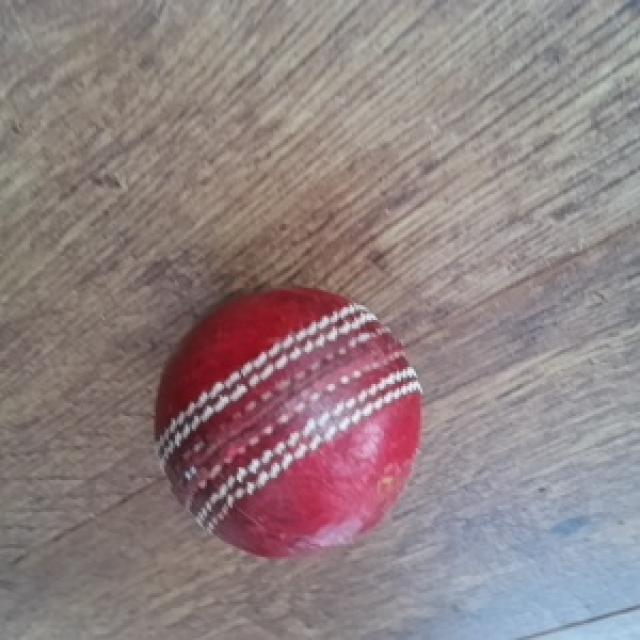ball: (154, 300, 426, 570)
